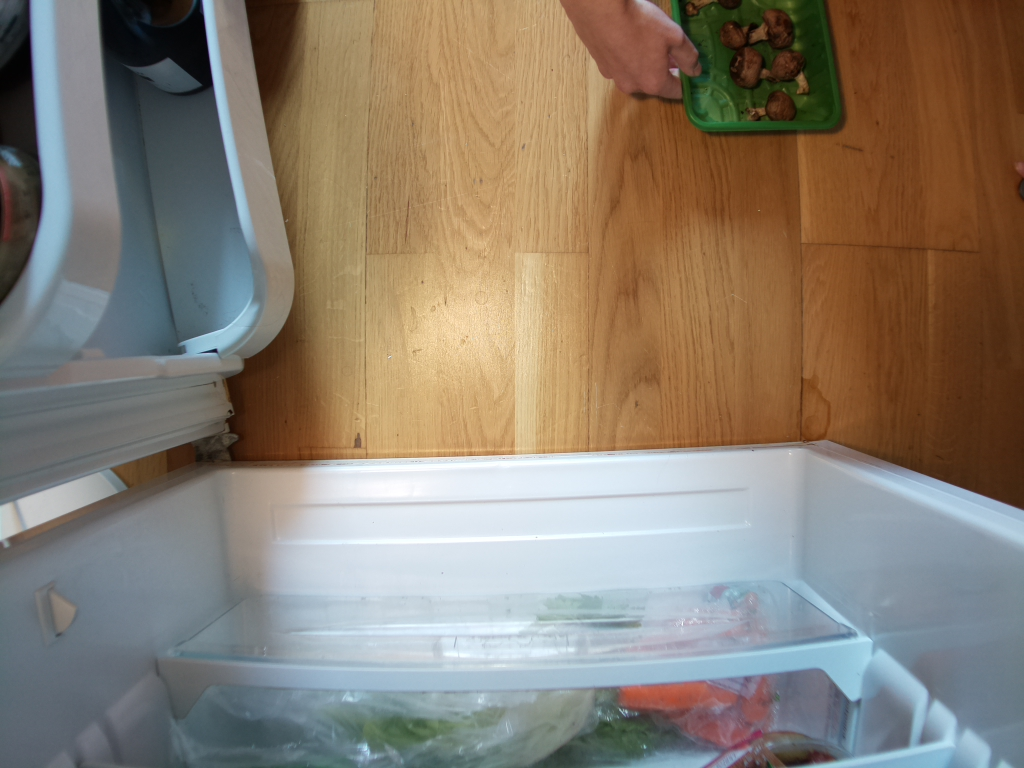mushrooms-bad: (676, 1, 850, 144)
